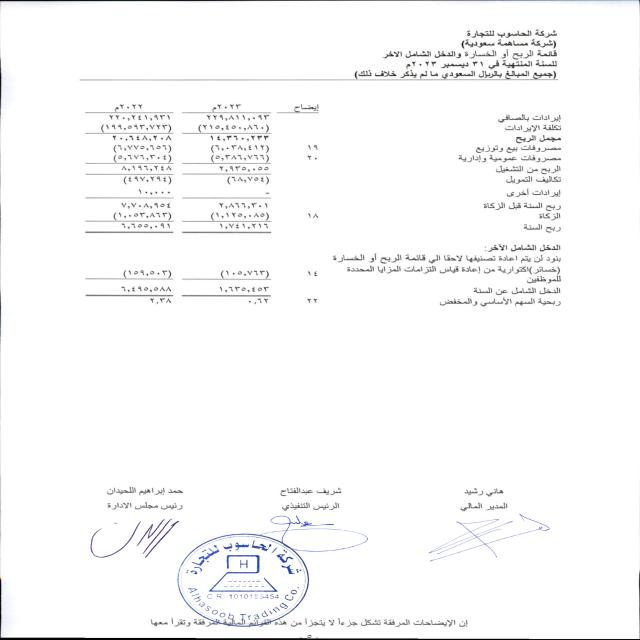table: (66, 101, 331, 321)
